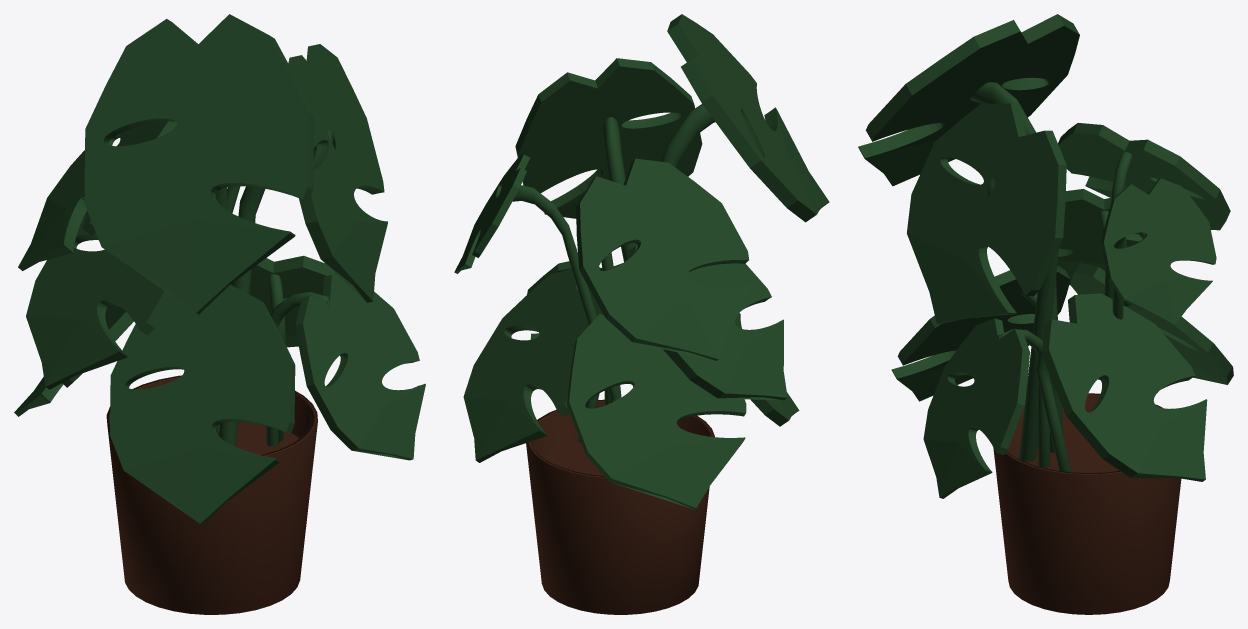
The model's file is Zimmer Pflanze.fbx.
3 views of the same model, side by side, from view 1: azimuth 30°, elevation 25°; view 2: azimuth 150°, elevation 25°; view 3: azimuth 270°, elevation 25° (orthographic). The views are drawn at different scales.
Parts seen in each view (by area): view 1: Pflanze2; view 2: Pflanze2; view 3: Pflanze2.
Part boxes in pixels (left/top/right/bottom): Pflanze2: left=14, top=14, right=425, bottom=614; Pflanze2: left=454, top=14, right=829, bottom=614; Pflanze2: left=858, top=14, right=1233, bottom=614.
Size of the model in its own units: 59.01 by 101 by 62.64.
